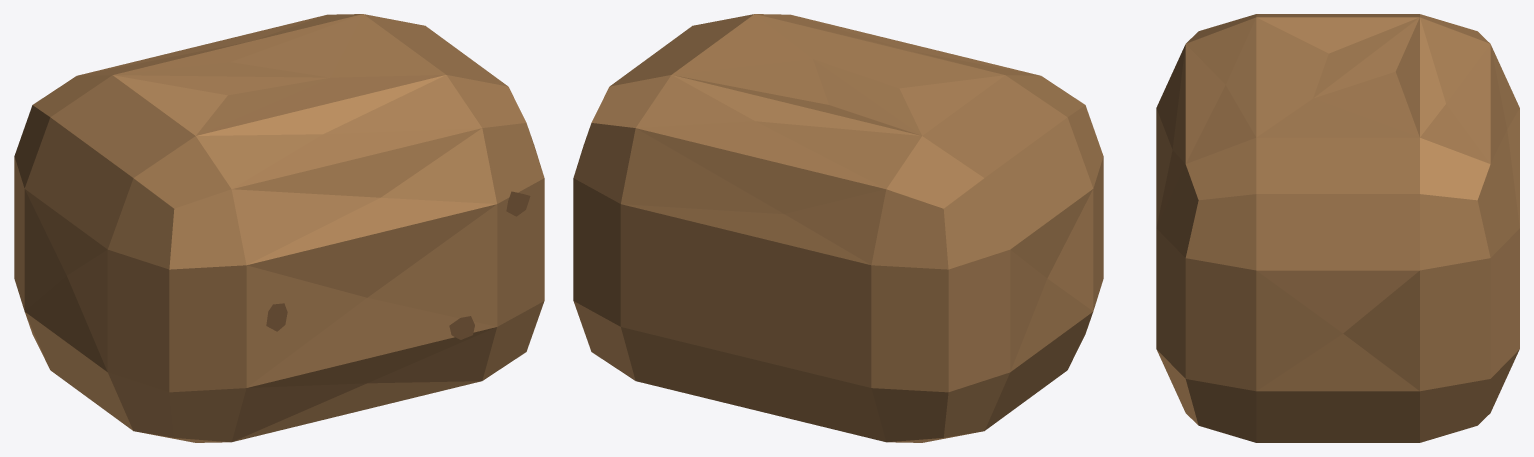
File: veg_potato_kartofel_idle.glb
The picture shows the model from 3 angles, left to right: view 1: azimuth 30°, elevation 25°; view 2: azimuth 150°, elevation 25°; view 3: azimuth 270°, elevation 25°; orthographic projection.
Parts seen in each view (by area): view 1: veg_potato_kartofel_idle; view 2: veg_potato_kartofel_idle; view 3: veg_potato_kartofel_idle.
Part boxes in pixels (x1,y1,x2,y2): veg_potato_kartofel_idle: [14, 14, 544, 442]; veg_potato_kartofel_idle: [573, 14, 1103, 442]; veg_potato_kartofel_idle: [1156, 14, 1519, 442].
Bounding box in the file's own units: 0.08 × 0.055 × 0.064.
1 material, 1 textured.
